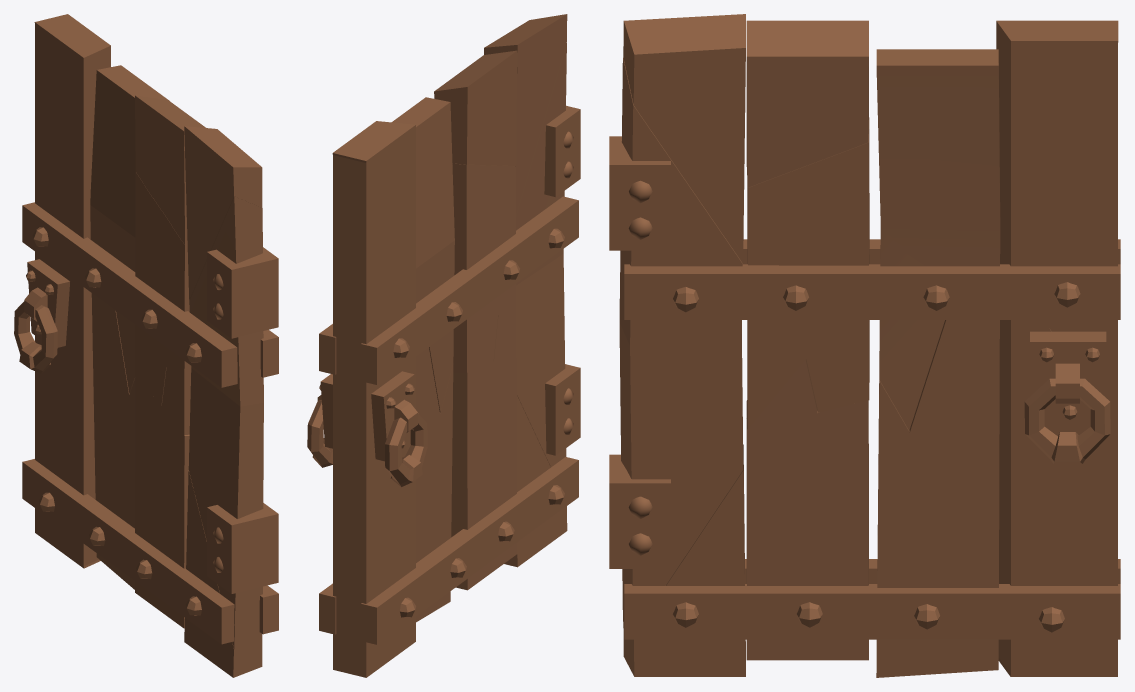
The model's file is broken door fix.fbx.
The picture shows the model from 3 angles, left to right: view 1: azimuth 30°, elevation 25°; view 2: azimuth 150°, elevation 25°; view 3: azimuth 270°, elevation 25°; orthographic projection. The views are drawn at different scales.
Parts seen in each view (by area): view 1: polySurface333, polySurface333.009, polySurface333.007, polySurface333.011, polySurface333.016, polySurface333.015, polySurface333.017, polySurface333.014, polySurface333.004, polySurface333.018, polySurface333.008, polySurface333.013 (+5 smaller); view 2: polySurface333.018, polySurface333.015, polySurface333.011, polySurface333, polySurface333.009, polySurface333.014, polySurface333.016, polySurface333.013, polySurface333.004, polySurface333.017, polySurface333.008, polySurface333.007 (+6 smaller); view 3: polySurface333, polySurface333.017, polySurface333.016, polySurface333.009, polySurface333.010, polySurface333.015, polySurface333.014, polySurface333.018, polySurface333.008, polySurface333.005, polySurface333.013, polySurface333.007 (+3 smaller).
Boxes of the visible parts, box(x1,y1,x2,y2) form: polySurface333: box(34, 14, 110, 565); polySurface333.009: box(188, 368, 278, 649); polySurface333.007: box(189, 196, 278, 406); polySurface333.011: box(22, 459, 234, 644); polySurface333.016: box(90, 65, 169, 394); polySurface333.015: box(135, 368, 189, 628); polySurface333.017: box(91, 293, 135, 589); polySurface333.014: box(135, 172, 191, 435); polySurface333.004: box(75, 253, 237, 387); polySurface333.018: box(35, 27, 100, 568); polySurface333.008: box(184, 126, 262, 299); polySurface333.013: box(135, 95, 205, 245); polySurface333.018: box(333, 155, 415, 677); polySurface333.015: box(451, 316, 517, 590); polySurface333.011: box(361, 457, 578, 644); polySurface333: box(332, 121, 415, 639); polySurface333.009: box(516, 254, 580, 467); polySurface333.014: box(452, 163, 516, 372); polySurface333.016: box(392, 97, 454, 412); polySurface333.013: box(434, 50, 517, 166); polySurface333.004: box(430, 196, 578, 345); polySurface333.017: box(416, 347, 453, 622); polySurface333.008: box(484, 14, 567, 215); polySurface333.007: box(516, 43, 580, 285); polySurface333: box(996, 20, 1118, 674); polySurface333.017: box(876, 320, 999, 677); polySurface333.016: box(876, 49, 1000, 432); polySurface333.009: box(609, 323, 743, 622); polySurface333.010: box(624, 584, 1120, 639); polySurface333.015: box(746, 360, 868, 660); polySurface333.014: box(746, 129, 869, 429); polySurface333.018: box(998, 43, 1117, 676); polySurface333.008: box(623, 14, 745, 263); polySurface333.005: box(624, 264, 988, 319); polySurface333.013: box(746, 20, 869, 187); polySurface333.007: box(609, 57, 742, 346).
Bounding box in the file's own units: 44.05 × 219 × 158.
